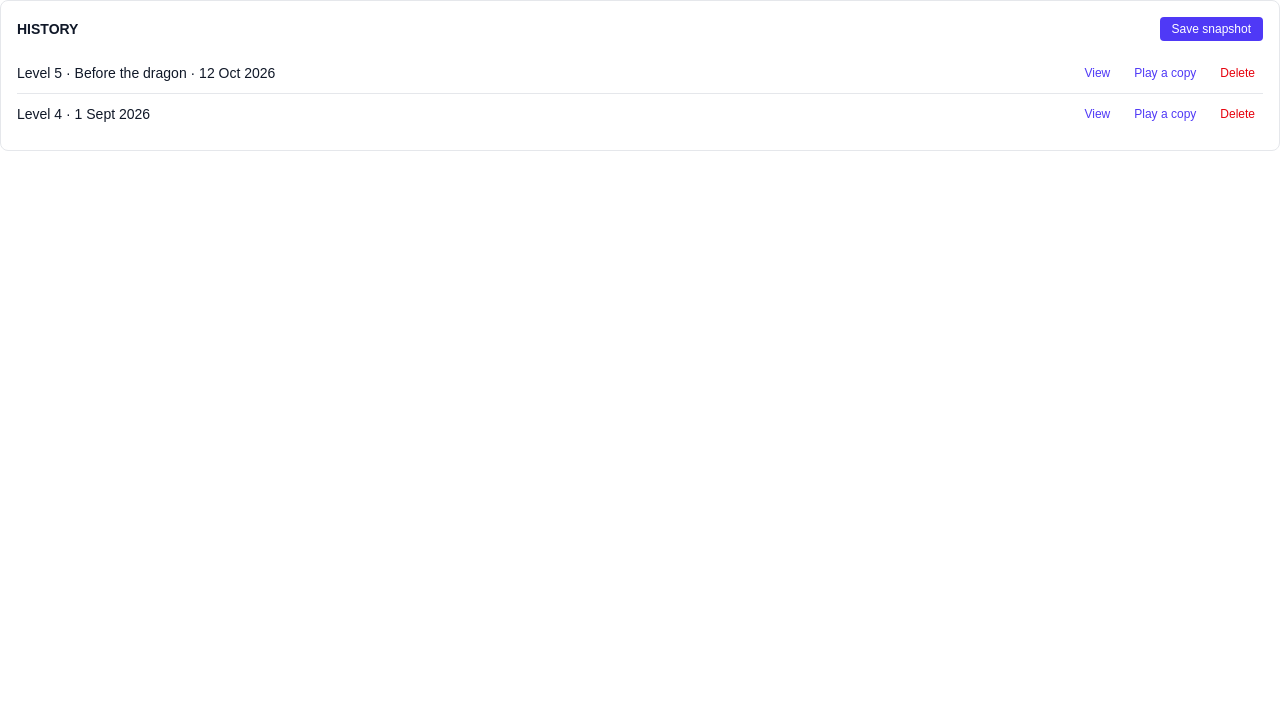
Test: CharacterHistorySection (VEG-644) › delete snapshot › sends no DELETE when the confirm dialog is cancelled
expect the text "Level 5 · Before the dragon · 12 Oct 2026" is shown: met, box [17,63,275,83]
Click the button with aria-label "Delete snapshot Level 5 · Before the dragon · 12 Oct 2026": (1238,73) [1212,61,1263,85]
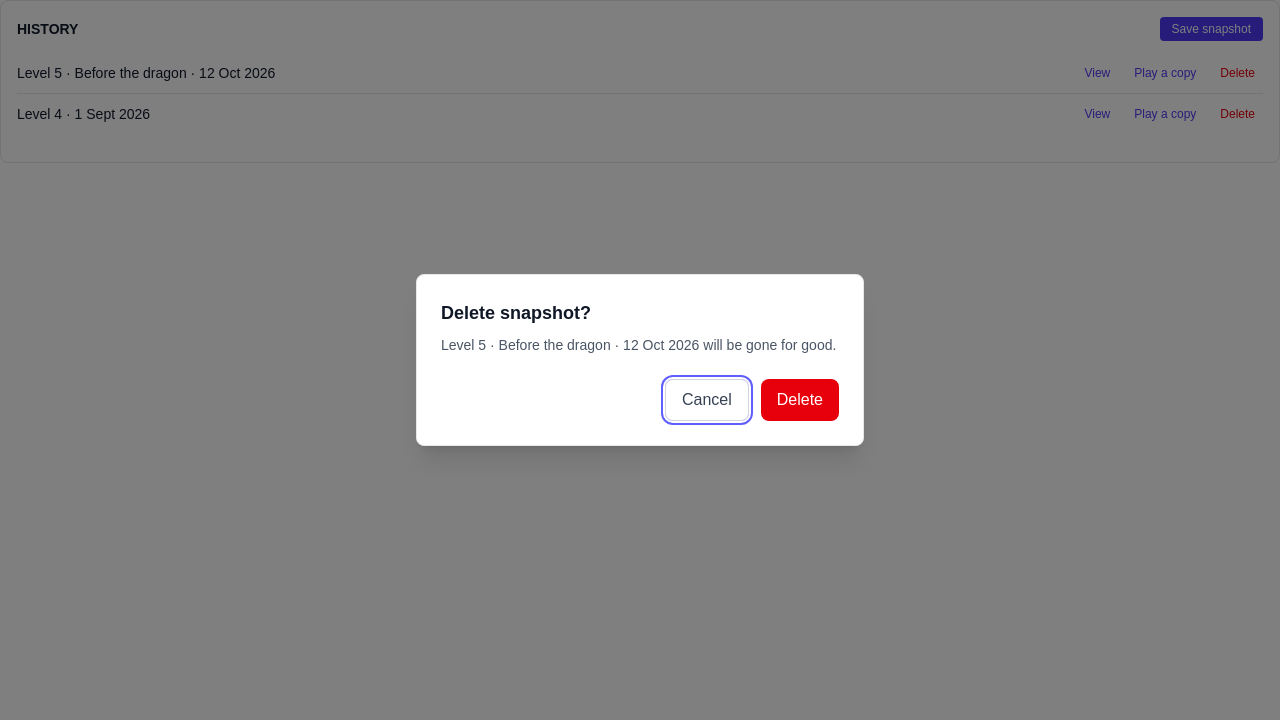
expect the heading "Delete snapshot?" is shown: met, box [441,303,591,323]
Click the button "Cancel": (707,400) [665,379,749,421]
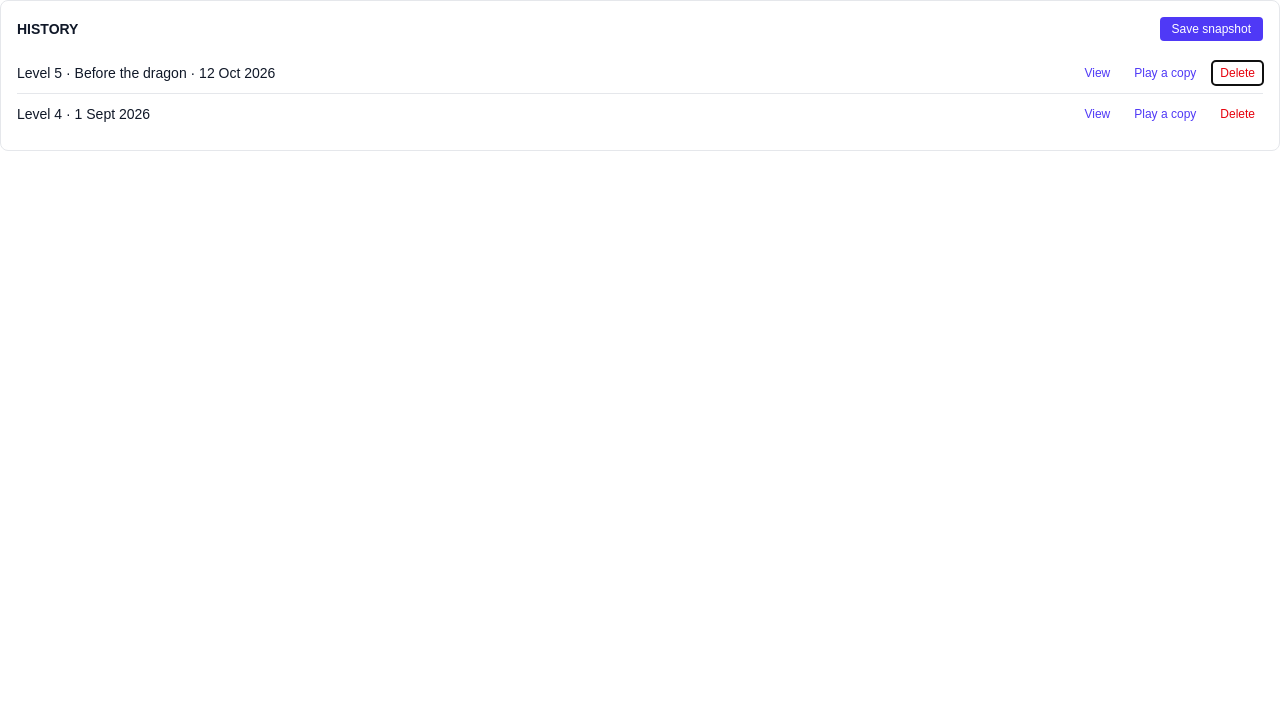
expect the number of list items with test id "snapshot-row" is 2: met, box [17,53,1263,94]; [17,94,1263,134]
expect the dialog is gone: met
